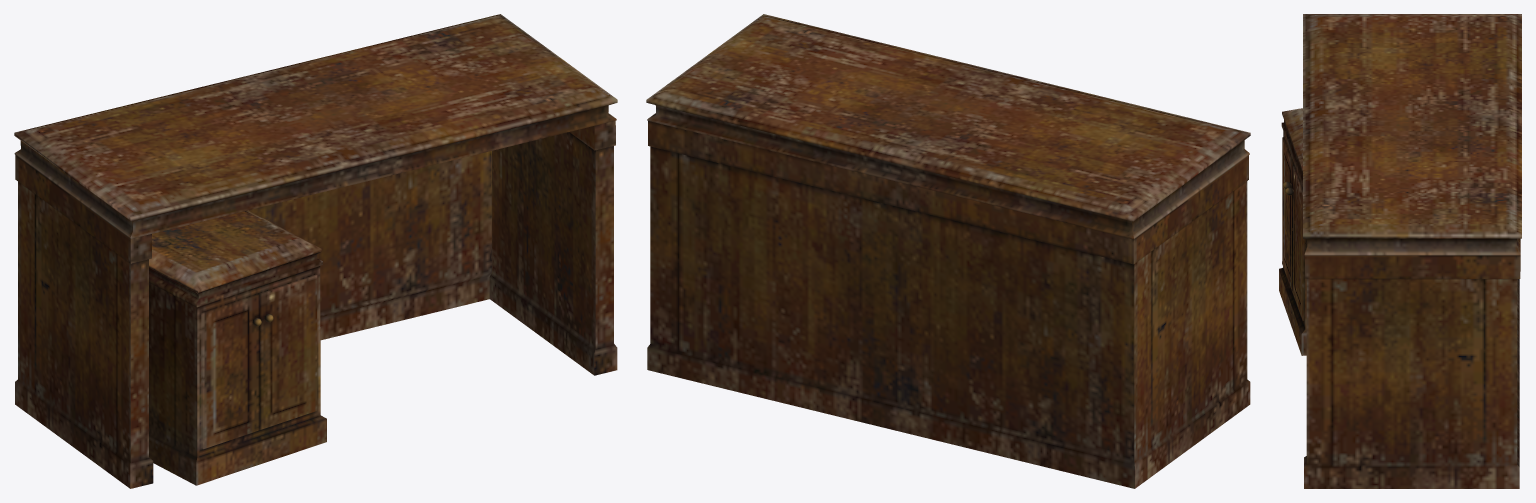
Rendered from 022_OfficeDesk.fbx.
The picture shows the model from 3 angles, left to right: view 1: azimuth 30°, elevation 25°; view 2: azimuth 150°, elevation 25°; view 3: azimuth 270°, elevation 25°; orthographic projection. The views are drawn at different scales.
Visible parts, largest first — view 1: LOD_1_Group_0_Sub_1__sm30_022_OfficeDesk04A_A_Mat; view 2: LOD_1_Group_0_Sub_1__sm30_022_OfficeDesk04A_A_Mat; view 3: LOD_1_Group_0_Sub_1__sm30_022_OfficeDesk04A_A_Mat.
Part boxes in pixels (x1,y1,x2,y2): LOD_1_Group_0_Sub_1__sm30_022_OfficeDesk04A_A_Mat: [14, 14, 617, 488]; LOD_1_Group_0_Sub_1__sm30_022_OfficeDesk04A_A_Mat: [646, 14, 1250, 488]; LOD_1_Group_0_Sub_1__sm30_022_OfficeDesk04A_A_Mat: [1279, 14, 1521, 488].
Size of the model in its own units: 1.76 by 0.9509 by 0.8131.
